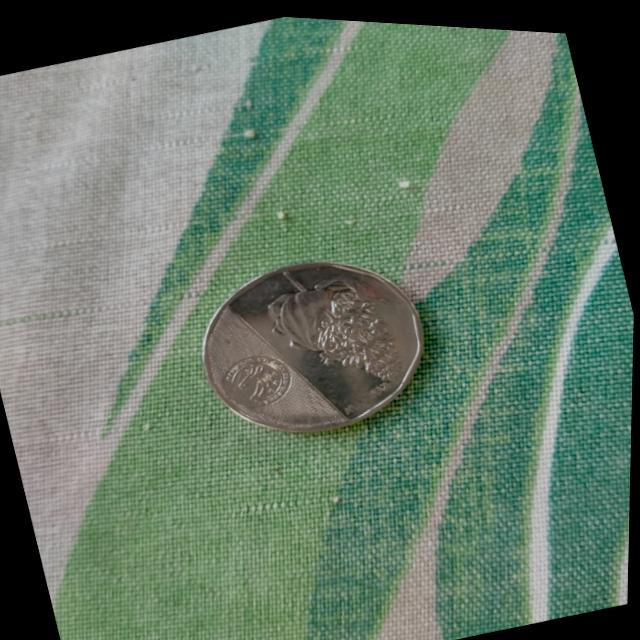10_New_Back: (251, 224, 427, 417)
